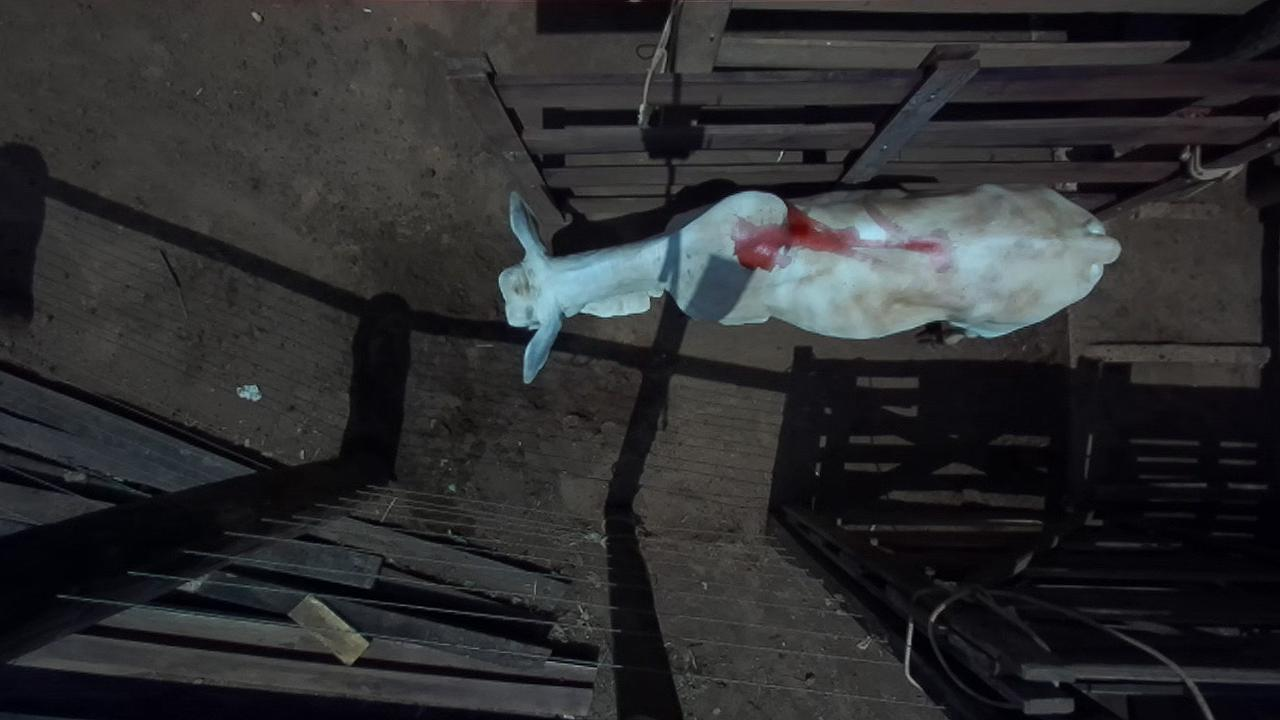cattle: (496, 179, 1122, 384)
